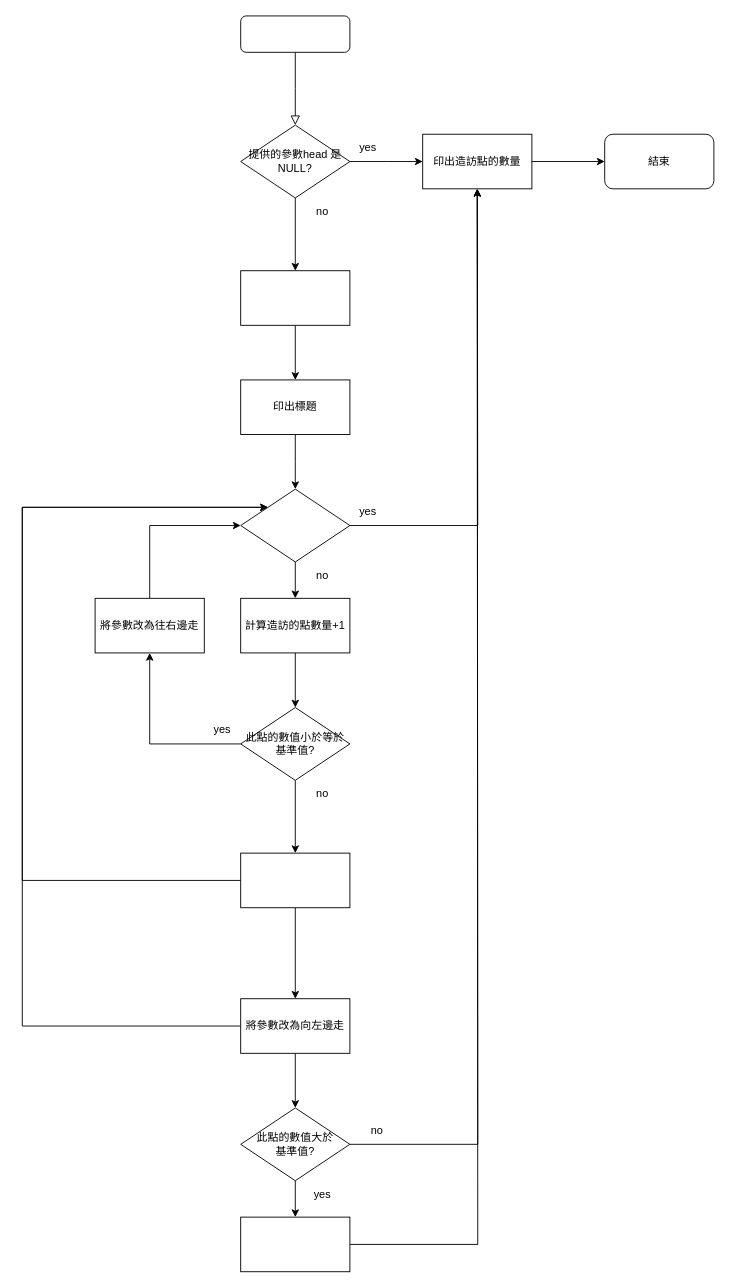
Some shapes in this 730 by 1288 pixel diagram are drawn without their labels. The centre of each missing label's shape, as x and y in pixels:
"印出此點的相關數據" belongs at (x=295, y=1244).
"將參數改為向右邊走" belongs at (x=295, y=880).
"提供的參數head為NULL?" belongs at (x=295, y=525).
"輸入基準值" belongs at (x=295, y=297).
"開始" belongs at (x=295, y=33).
